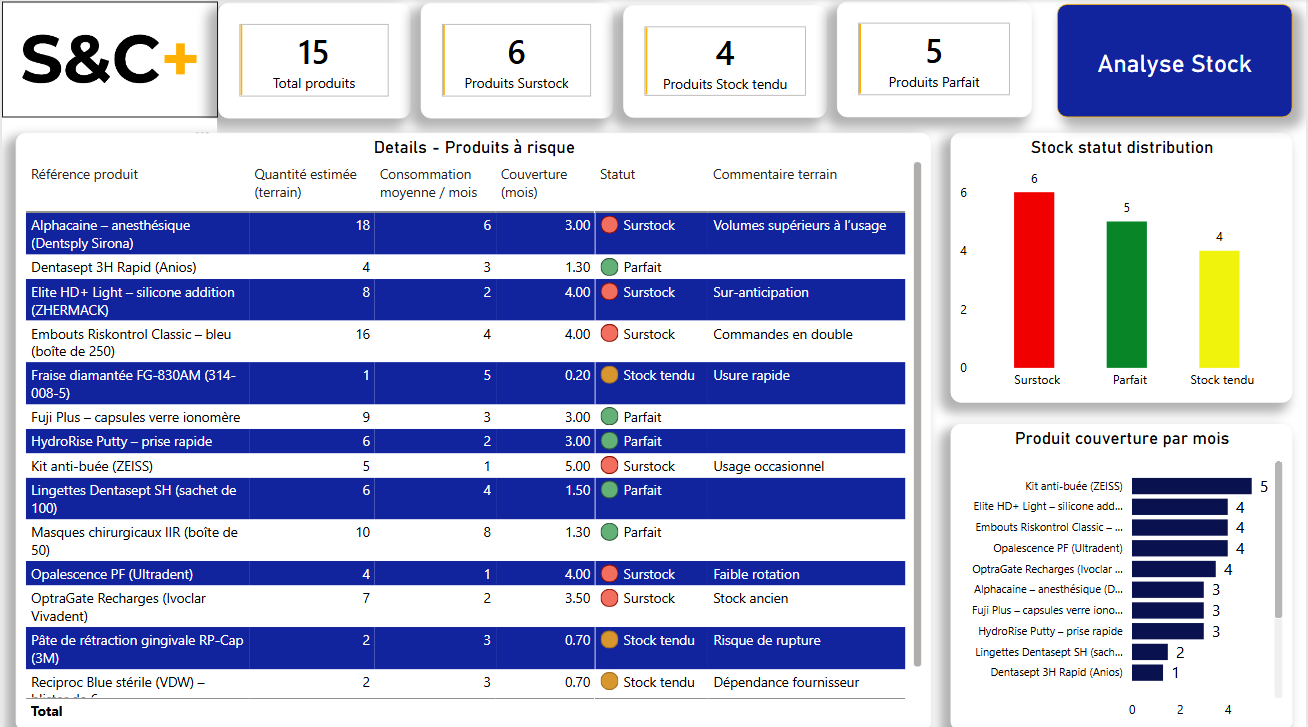

The page's visual inventory and layout, read from the dashboard file:
{"tool":"powerbi","page":{"name":"Analyse Stock","canvas":[1280,720],"ordinal":3},"visuals":[{"type":"cardVisual","fields":{"Data":["Count(Stock terrain.Référence produit)"]},"box":[212.5,3.8,188.8,113.8],"z":3000},{"type":"cardVisual","fields":{"Data":["Stock terrain.Produits Surstock"]},"box":[411.2,3.8,188.8,113.8],"z":4000},{"type":"cardVisual","fields":{"Data":["Stock terrain.Produits Stock tendu"]},"box":[610,6.2,200,110],"z":5000},{"type":"image","box":[0,2.5,212.5,113.8],"z":6000},{"type":"barChart","title":"Produit couverture par mois","fields":{"Category":["Stock terrain.Référence produit"],"Y":["Sum(Stock terrain.Couverture (mois))"]},"box":[931.2,417.5,335,302.5],"z":7000},{"type":"columnChart","title":"Stock statut distribution","fields":{"Category":["Stock terrain.Statut"],"Y":["CountNonNull(Stock terrain.Référence produit)"]},"box":[931.2,131.2,335,265],"z":8000},{"type":"cardVisual","fields":{"Data":["Stock terrain.Produits Parfait"]},"box":[820,2.5,191.2,113.8],"z":9000},{"type":"tableEx","title":"Details - Produits à risque","fields":{"Values":["Stock terrain.Référence produit","Stock terrain.Quantité estimée (terrain)","Stock terrain.Consommation moyenne / mois","Stock terrain.Couverture (mois)","Stock terrain.Statut","Stock terrain.Commentaire terrain"]},"box":[13.8,131.2,898.8,588.8],"z":10000},{"type":"textbox","box":[1035,5,231.2,111.2],"z":10001}]}

Visuals, with their boxes in screenshot pixels (x1, y1, x2, y2), scaled from the page's 1280x720 canvas onto the 1308x727 screenshot:
cardVisual - Count(Stock terrain.Référence produit): locate(217, 4, 410, 119)
cardVisual - Stock terrain.Produits Surstock: locate(420, 4, 613, 119)
cardVisual - Stock terrain.Produits Stock tendu: locate(623, 6, 828, 117)
image: locate(0, 3, 217, 117)
"Produit couverture par mois" barChart: locate(952, 422, 1294, 726)
"Stock statut distribution" columnChart: locate(952, 132, 1294, 400)
cardVisual - Stock terrain.Produits Parfait: locate(838, 3, 1033, 117)
"Details - Produits à risque" tableEx: locate(14, 132, 933, 726)
textbox: locate(1058, 5, 1294, 117)
